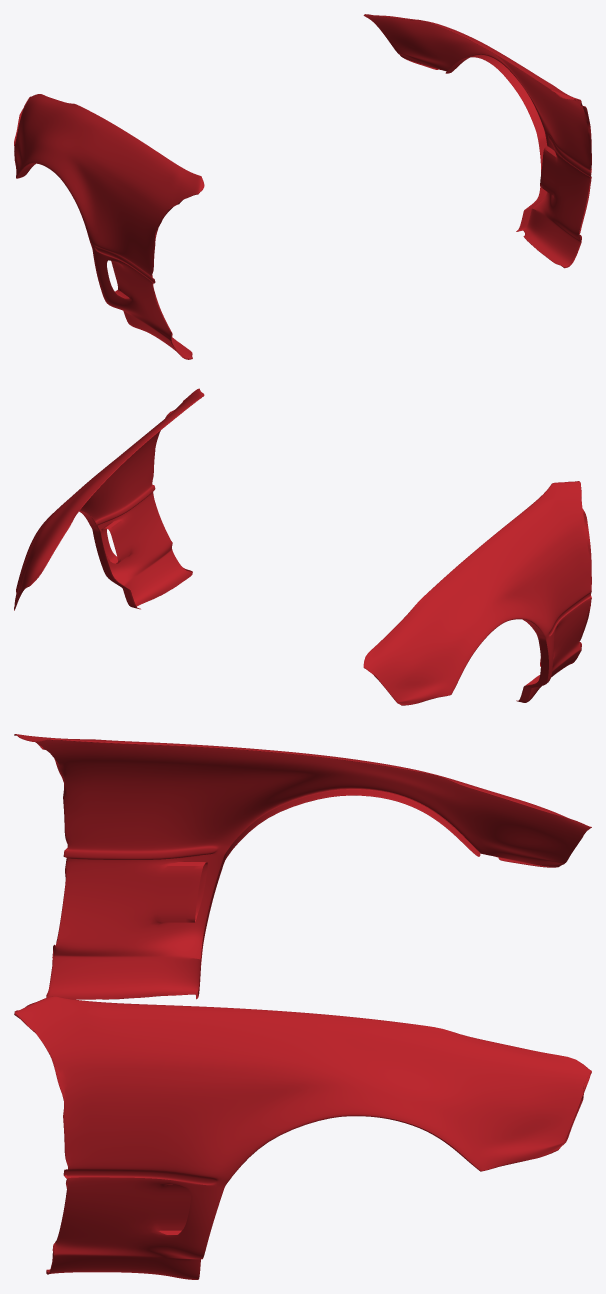
3 views of the same model, one above another, from view 1: azimuth 30°, elevation 25°; view 2: azimuth 150°, elevation 25°; view 3: azimuth 270°, elevation 25° (orthographic). The views are drawn at different scales.
Visible parts, largest first — view 1: Miata_Aero_GuardAK; view 2: Miata_Aero_GuardAK; view 3: Miata_Aero_GuardAK.
Part boxes in pixels (box(x1,y1,x2,y2)): Miata_Aero_GuardAK: box(14, 14, 591, 359); Miata_Aero_GuardAK: box(14, 388, 591, 705); Miata_Aero_GuardAK: box(14, 734, 591, 1279).
Bounding box in the file's own units: 69.52 × 26.19 × 51.
